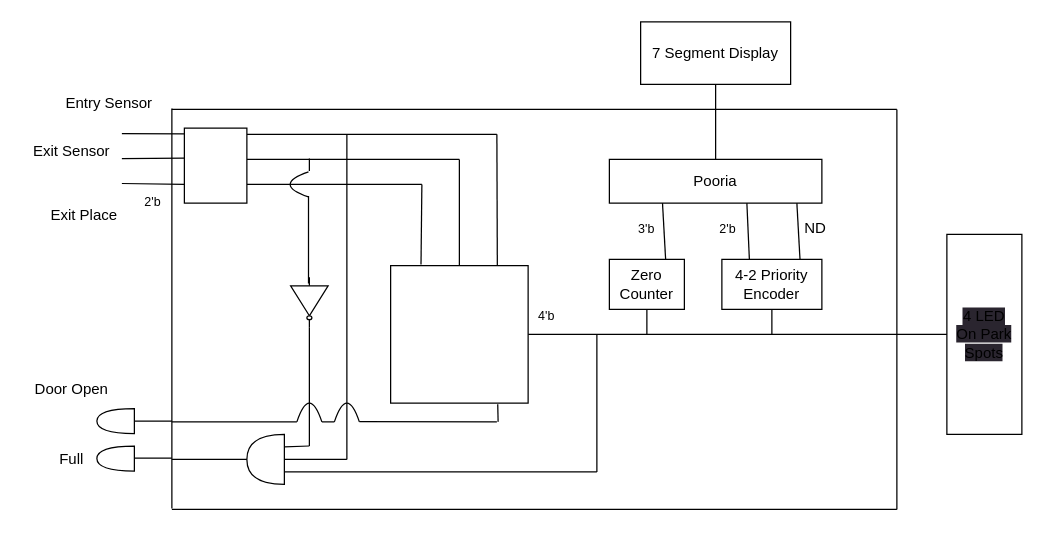
Image size: 1044x533. Some labels were removed from this diagram. The shapes that lost their labels are listed below. From the top down, each one's box as (x1, y1, x2, y2) in pixels, then its label:
(183, 127, 247, 203): Debouncer
(389, 264, 528, 403): FSM
